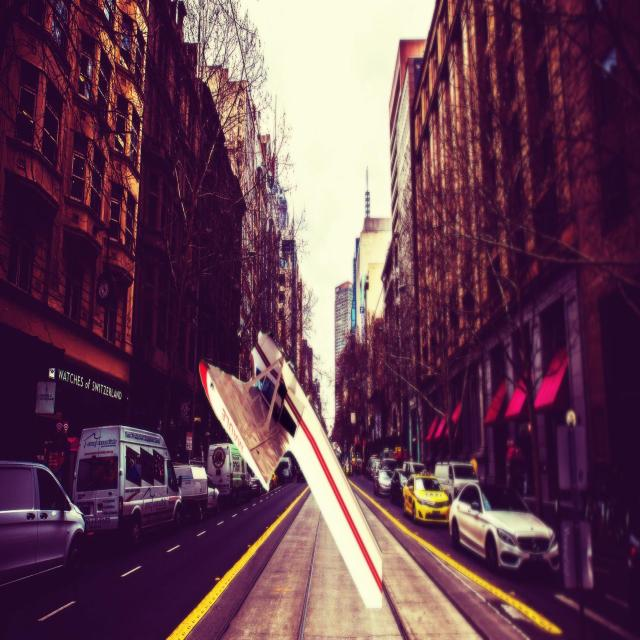airplane: (198, 330, 383, 610)
